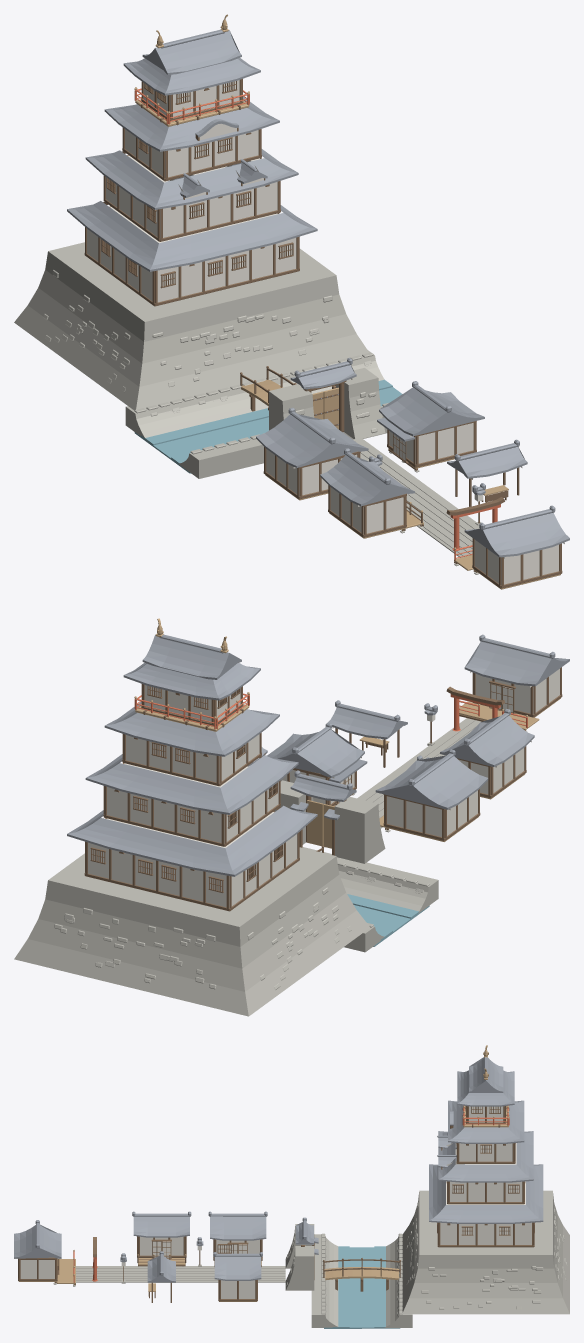
3 renders of one model, top to bottom at view 1: azimuth 30°, elevation 25°; view 2: azimuth 150°, elevation 25°; view 3: azimuth 270°, elevation 25°, orthographic. The views are drawn at different scales.
Visible parts, largest first — view 1: 000-keep-stone-base/0, 001-keep-tier-1/3, 002-keep-tier-2/3, 004-keep-top-tier/6, 001-keep-tier-1/0, 003-keep-tier-3/3, 002-keep-tier-2/0, 026-stone-base-gateway/0, 033-merchant-house/4, 034-townhouse-middle/4, 001-keep-tier-1/1, 038-shrine-hall/4 (+22 smaller); view 2: 000-keep-stone-base/0, 001-keep-tier-1/3, 002-keep-tier-2/3, 004-keep-top-tier/6, 001-keep-tier-1/0, 003-keep-tier-3/3, 002-keep-tier-2/0, 033-merchant-house/4, 026-stone-base-gateway/0, 038-shrine-hall/4, 034-townhouse-middle/4, 001-keep-tier-1/1 (+22 smaller); view 3: 000-keep-stone-base/0, 001-keep-tier-1/3, 002-keep-tier-2/3, 004-keep-top-tier/6, 003-keep-tier-3/3, 001-keep-tier-1/0, 033-merchant-house/4, 038-shrine-hall/4, 035-tea-house/4, 002-keep-tier-2/0, 026-stone-base-gateway/0, 034-townhouse-middle/4 (+22 smaller).
Part boxes in pixels (x1,y1,x2,y2): 000-keep-stone-base/0: (14,242,369,410); 001-keep-tier-1/3: (67,201,317,271); 002-keep-tier-2/3: (85,149,298,209); 004-keep-top-tier/6: (123,29,260,95); 001-keep-tier-1/0: (87,207,296,302); 003-keep-tier-3/3: (104,97,279,151); 002-keep-tier-2/0: (106,155,277,238); 026-stone-base-gateway/0: (269,368,385,438); 033-merchant-house/4: (256,407,368,467); 034-townhouse-middle/4: (377,381,484,441); 001-keep-tier-1/1: (84,202,299,306); 038-shrine-hall/4: (464,505,569,557); 000-keep-stone-base/0: (14,847,369,1016); 001-keep-tier-1/3: (67,805,317,876); 002-keep-tier-2/3: (85,747,298,814); 004-keep-top-tier/6: (123,634,260,700); 001-keep-tier-1/0: (88,812,297,907); 003-keep-tier-3/3: (104,701,279,756); 002-keep-tier-2/0: (107,763,278,843); 033-merchant-house/4: (375,749,488,809); 026-stone-base-gateway/0: (274,780,385,863); 038-shrine-hall/4: (464,634,569,686); 034-townhouse-middle/4: (266,722,367,783); 001-keep-tier-1/1: (84,807,299,911); 000-keep-stone-base/0: (402,1190,569,1314); 001-keep-tier-1/3: (429,1164,543,1223); 002-keep-tier-2/3: (437,1131,533,1182); 004-keep-top-tier/6: (457,1057,514,1106); 003-keep-tier-3/3: (448,1100,524,1143); 001-keep-tier-1/0: (440,1181,531,1244); 033-merchant-house/4: (208,1211,267,1240); 038-shrine-hall/4: (14,1220,61,1258); 035-tea-house/4: (132,1211,191,1237); 002-keep-tier-2/0: (442,1143,522,1201); 026-stone-base-gateway/0: (285,1224,314,1290); 034-townhouse-middle/4: (213,1252,262,1280).
Size of the model in its own units: 20 by 26.79 by 58.3.
